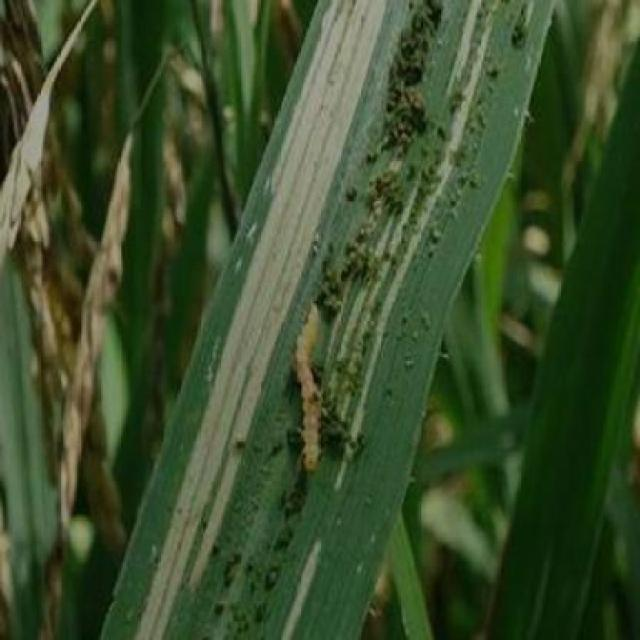leaf-folder: (276, 288, 344, 498)
